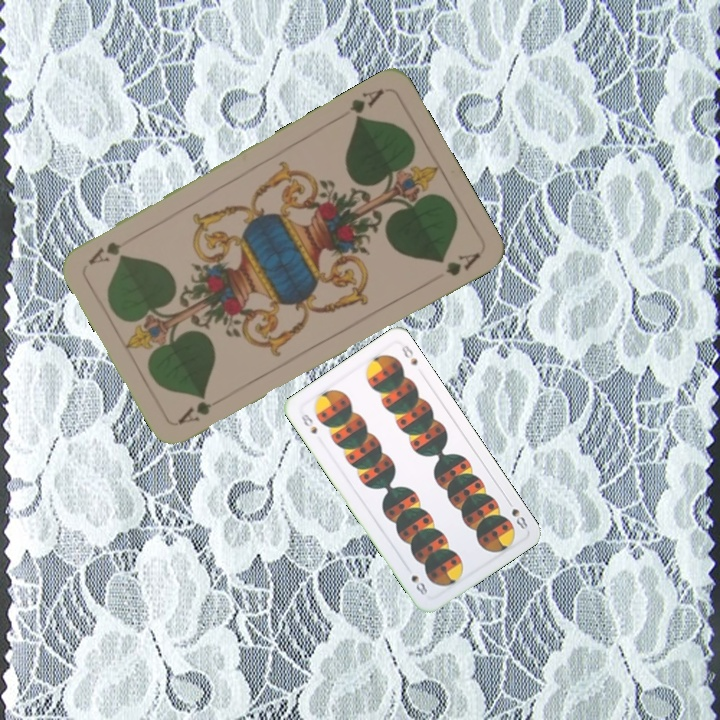GA: (345, 85, 387, 124), (174, 397, 214, 427)
S8: (503, 495, 530, 532), (295, 408, 320, 437)
